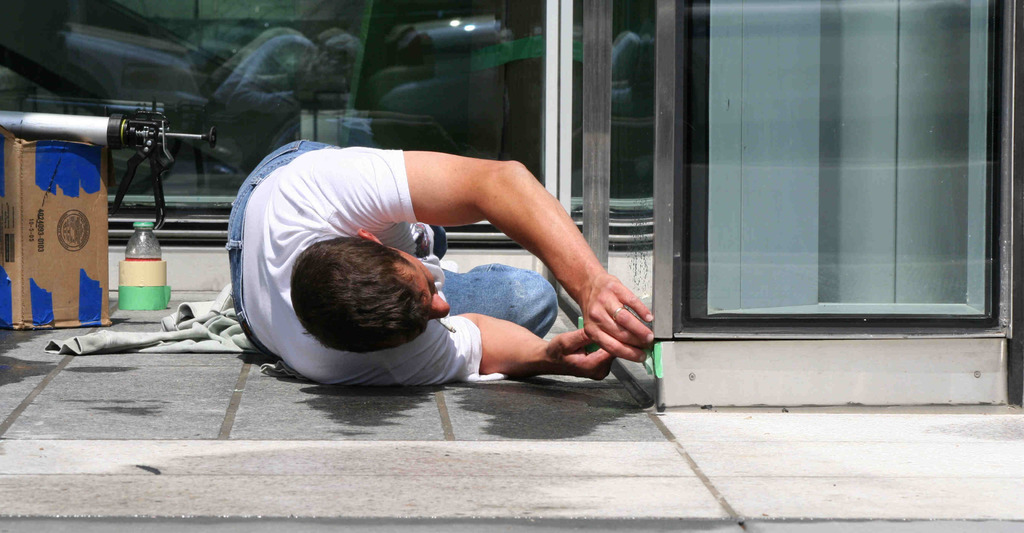person: (223, 122, 660, 387)
